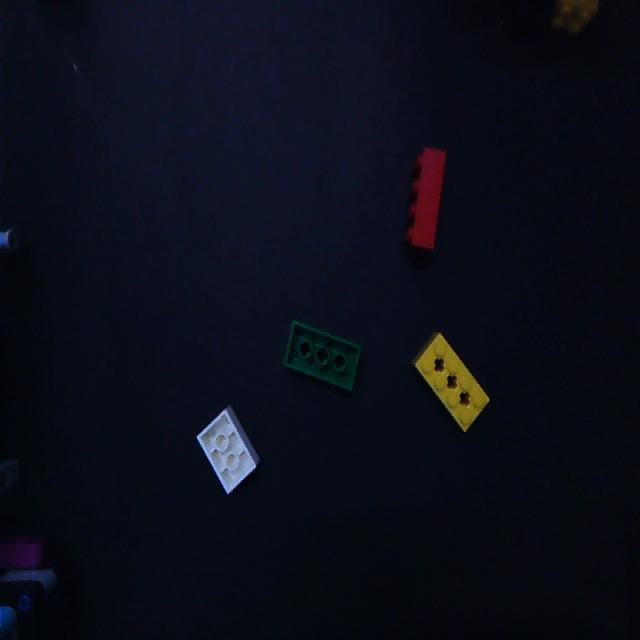lego_brick: (413, 332, 488, 431), (284, 321, 360, 391), (198, 407, 258, 492), (406, 148, 445, 248)
